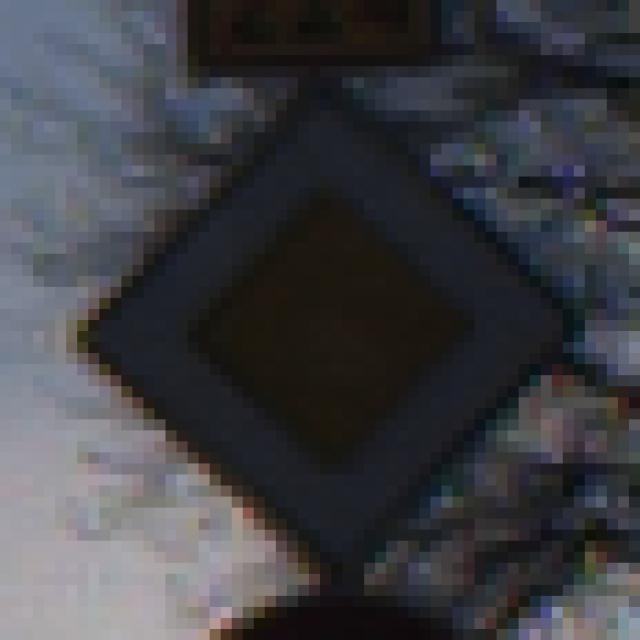Main Road: (56, 56, 586, 586)
